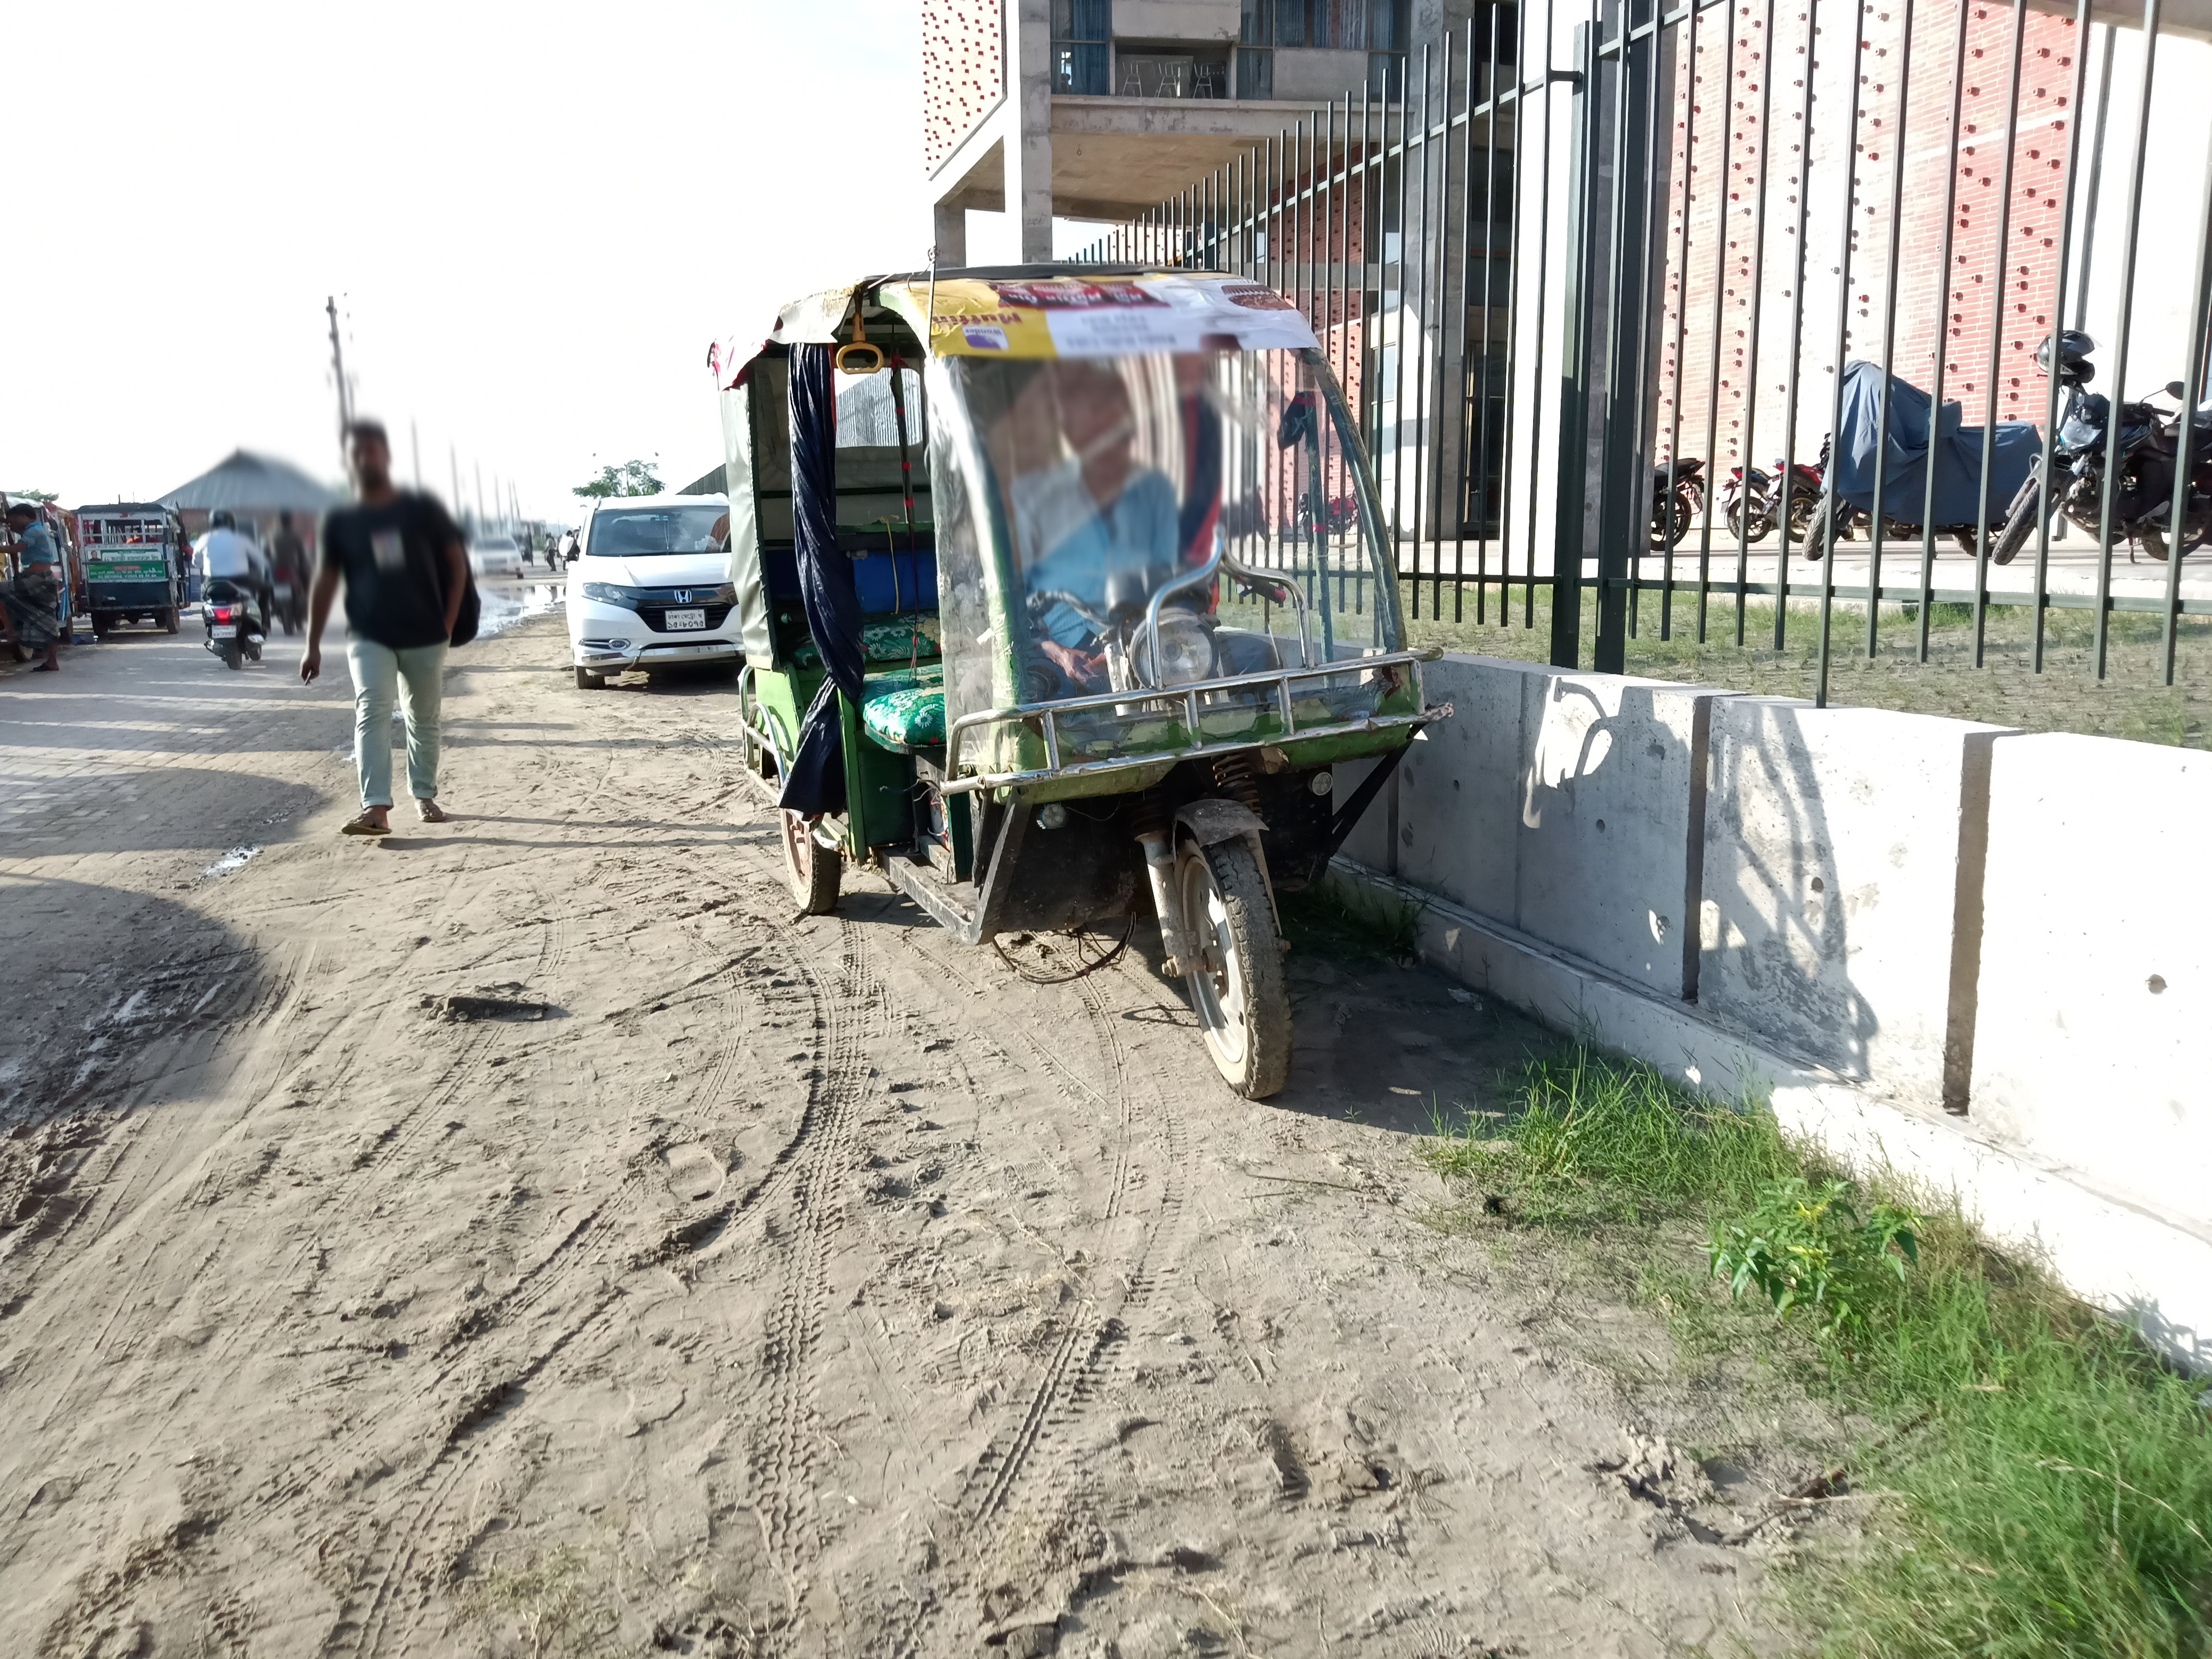bike: (1993, 368, 2212, 563), (1726, 464, 1858, 549), (199, 582, 270, 666), (1655, 458, 1716, 549)
car: (564, 491, 733, 694), (470, 532, 523, 586)
easybike: (705, 258, 1444, 1096), (0, 498, 78, 687), (84, 498, 186, 638)
